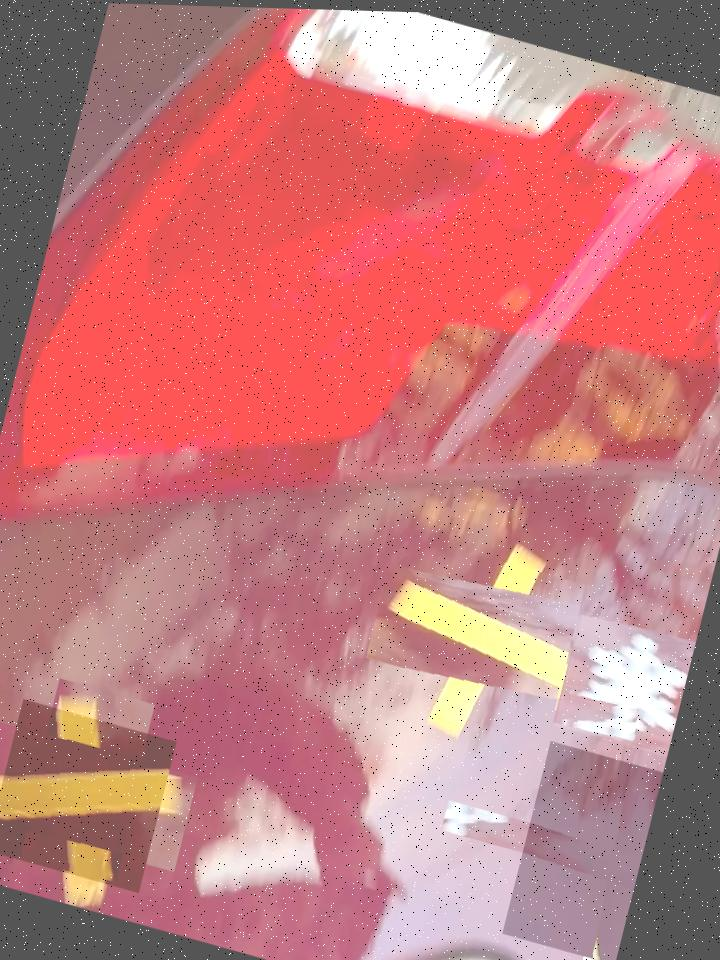dent: (554, 606, 696, 753)
scratch: (388, 537, 586, 739), (502, 736, 663, 960), (0, 698, 176, 893)
